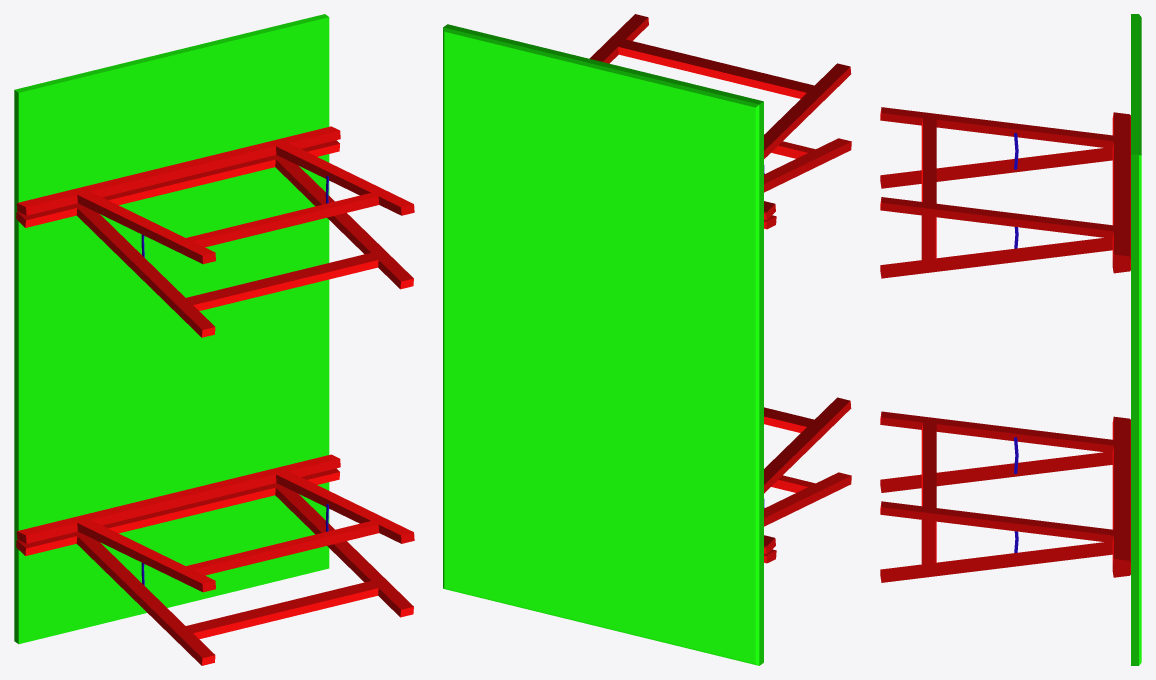
File: P_Table.fbx
3 renders of one model, left to right at view 1: azimuth 30°, elevation 25°; view 2: azimuth 150°, elevation 25°; view 3: azimuth 270°, elevation 25°, orthographic. The views are drawn at different scales.
Parts seen in each view (by area): view 1: P_Table; view 2: P_Table; view 3: P_Table.
Boxes of the visible parts, bbox=[...] form: P_Table: bbox=[14, 14, 414, 665]; P_Table: bbox=[443, 14, 851, 665]; P_Table: bbox=[880, 14, 1141, 665].
Size of the model in its own units: 99.74 by 167 by 77.29.
